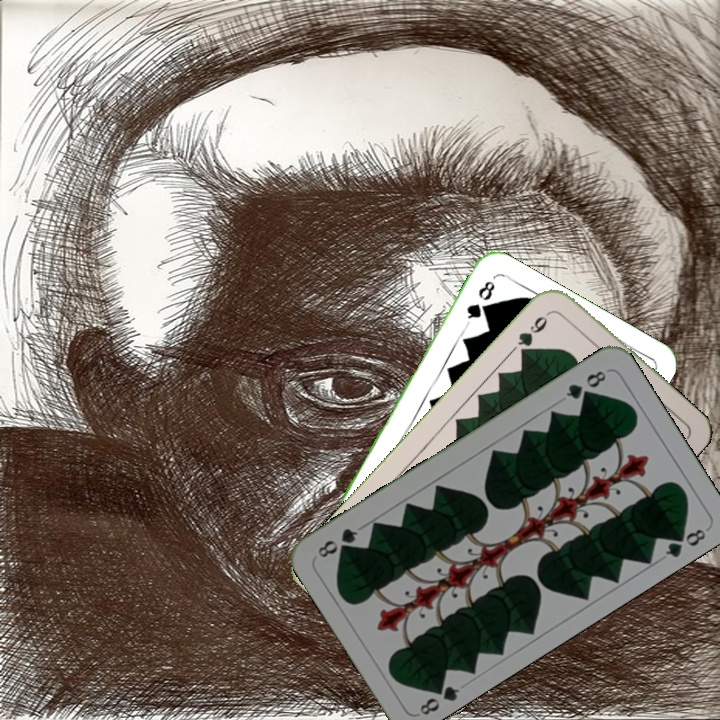G8: (414, 677, 463, 718), (461, 276, 498, 328), (561, 366, 609, 402)
G9: (513, 312, 551, 359)
